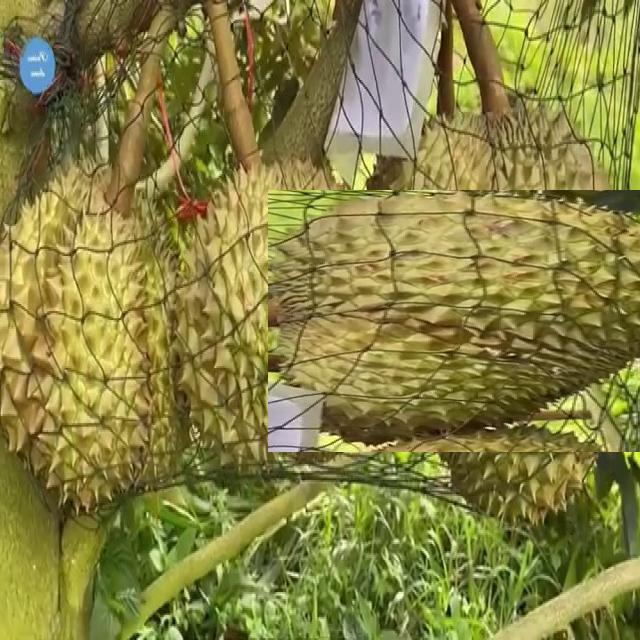durian: (313, 145, 640, 497), (2, 152, 202, 520), (164, 152, 388, 466)
